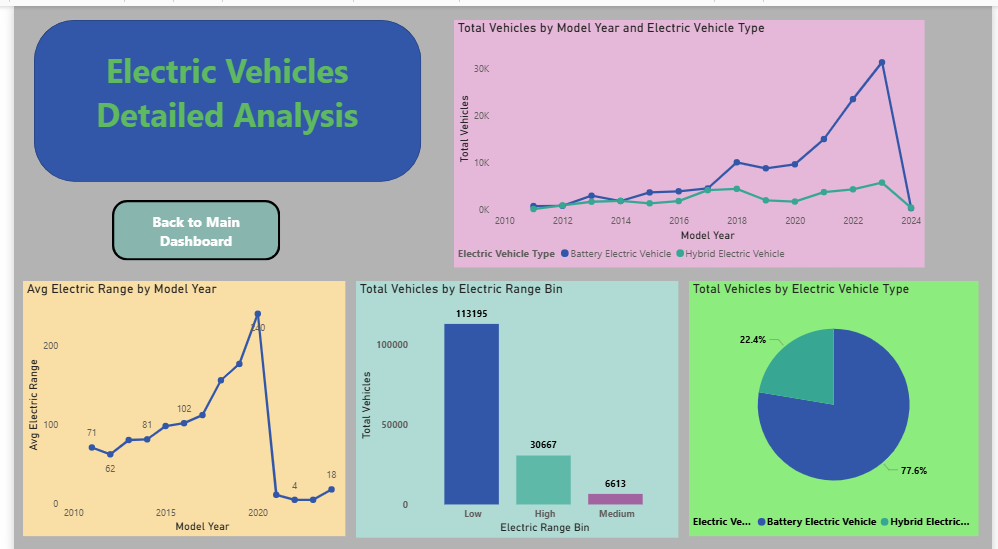

What the dashboard file says about the page in this screenshot:
{"tool":"powerbi","page":{"name":"EV Deep Dive","canvas":[1280,720],"ordinal":11},"visuals":[{"type":"actionButton","box":[128.2,253.4,220.3,79.2],"z":0},{"type":"clusteredColumnChart","fields":{"Category":["Electric_Vehicle_Population_Dat.Electric Range Bin"],"Y":["Electric_Vehicle_Population_Dat.Total Vehicles"]},"box":[447.8,360,421.9,335.5],"z":1000},{"type":"lineChart","fields":{"Category":["Electric_Vehicle_Population_Dat.Model Year"],"Series":["Electric_Vehicle_Population_Dat.Electric Vehicle Type"],"Y":["Electric_Vehicle_Population_Dat.Total Vehicles"]},"box":[576,18.7,616.3,324],"z":2000},{"type":"lineChart","fields":{"Category":["Electric_Vehicle_Population_Dat.Model Year"],"Y":["Electric_Vehicle_Population_Dat.Avg Electric Range"]},"box":[11.5,360,421.9,334.1],"z":3000},{"type":"shape","box":[25.9,18.7,506.9,211.7],"z":4000},{"type":"textbox","box":[77.8,50.4,403.2,148.3],"z":5000},{"type":"pieChart","fields":{"Category":["Electric_Vehicle_Population_Dat.Electric Vehicle Type"],"Y":["Electric_Vehicle_Population_Dat.Total Vehicles"]},"box":[884.2,360,378.7,334.1],"z":6000}]}

Visuals, with their boxes in screenshot pixels (x1, y1, x2, y2), scaled from the page's 1280x720 canvas onto the 998x549 screenshot:
actionButton: <bbox>100, 193, 272, 254</bbox>
clusteredColumnChart - Electric_Vehicle_Population_Dat.Electric Range Bin x Electric_Vehicle_Population_Dat.Total Vehicles: <bbox>349, 274, 678, 530</bbox>
lineChart - Electric_Vehicle_Population_Dat.Model Year x Electric_Vehicle_Population_Dat.Electric Vehicle Type: <bbox>449, 14, 930, 261</bbox>
lineChart - Electric_Vehicle_Population_Dat.Model Year x Electric_Vehicle_Population_Dat.Avg Electric Range: <bbox>9, 274, 338, 529</bbox>
shape: <bbox>20, 14, 415, 176</bbox>
textbox: <bbox>61, 38, 375, 152</bbox>
pieChart - Electric_Vehicle_Population_Dat.Electric Vehicle Type x Electric_Vehicle_Population_Dat.Total Vehicles: <bbox>689, 274, 985, 529</bbox>
